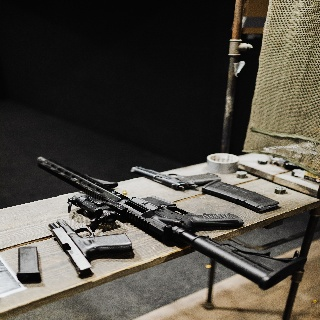pistol: (46, 220, 134, 280), (129, 163, 221, 192)
rifle: (35, 154, 306, 292)
